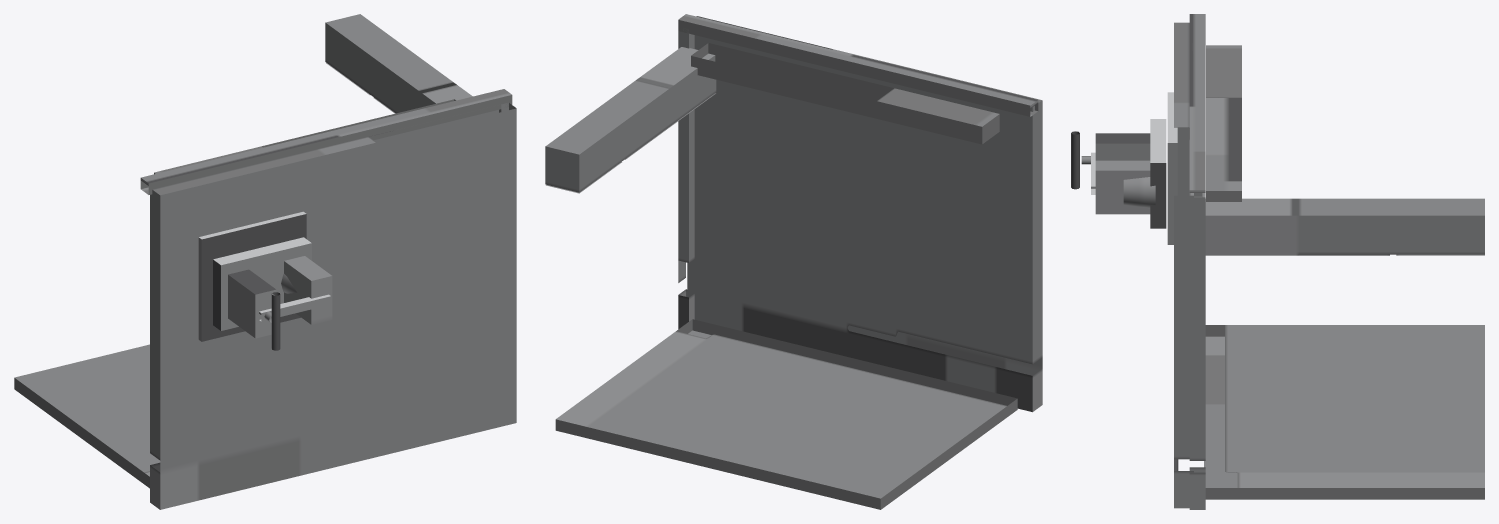
3 views of the same model, side by side, from view 1: azimuth 30°, elevation 25°; view 2: azimuth 150°, elevation 25°; view 3: azimuth 270°, elevation 25° (orthographic). The views are drawn at different scales.
Bounding box in the file's own units: 0.884 × 0.7472 × 0.8763.
